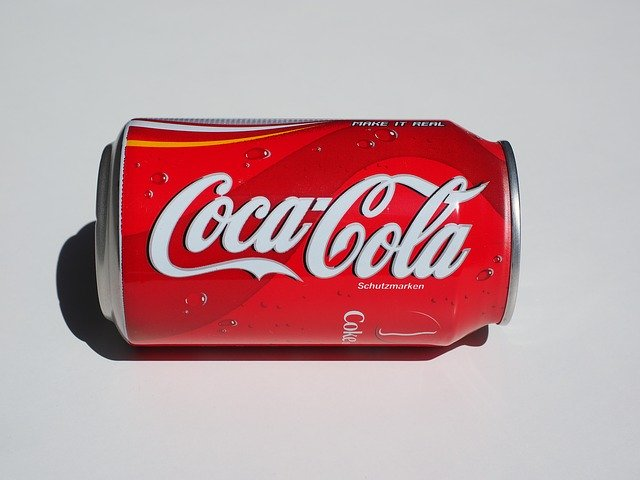can: (89, 98, 543, 359)
